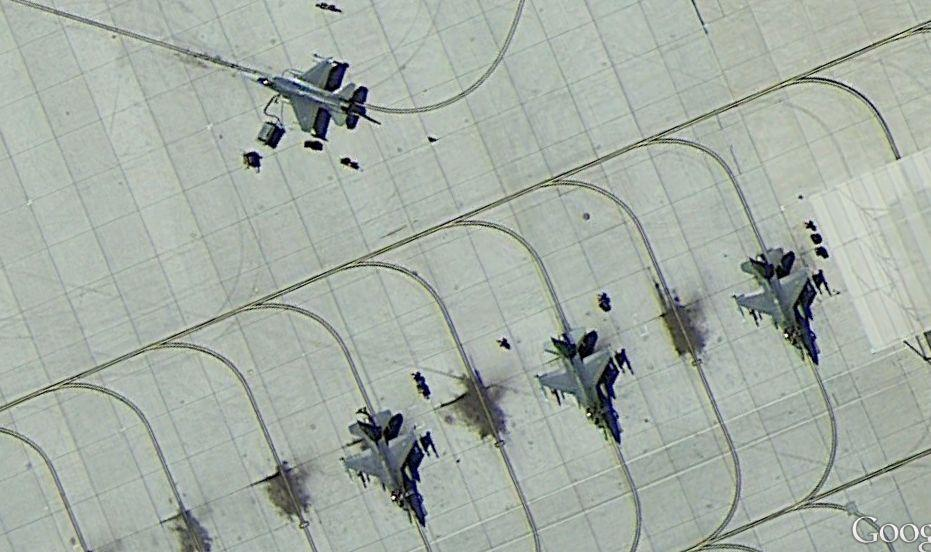F-16: (532, 328, 629, 445), (338, 405, 428, 531), (729, 244, 822, 363), (250, 59, 367, 138)
